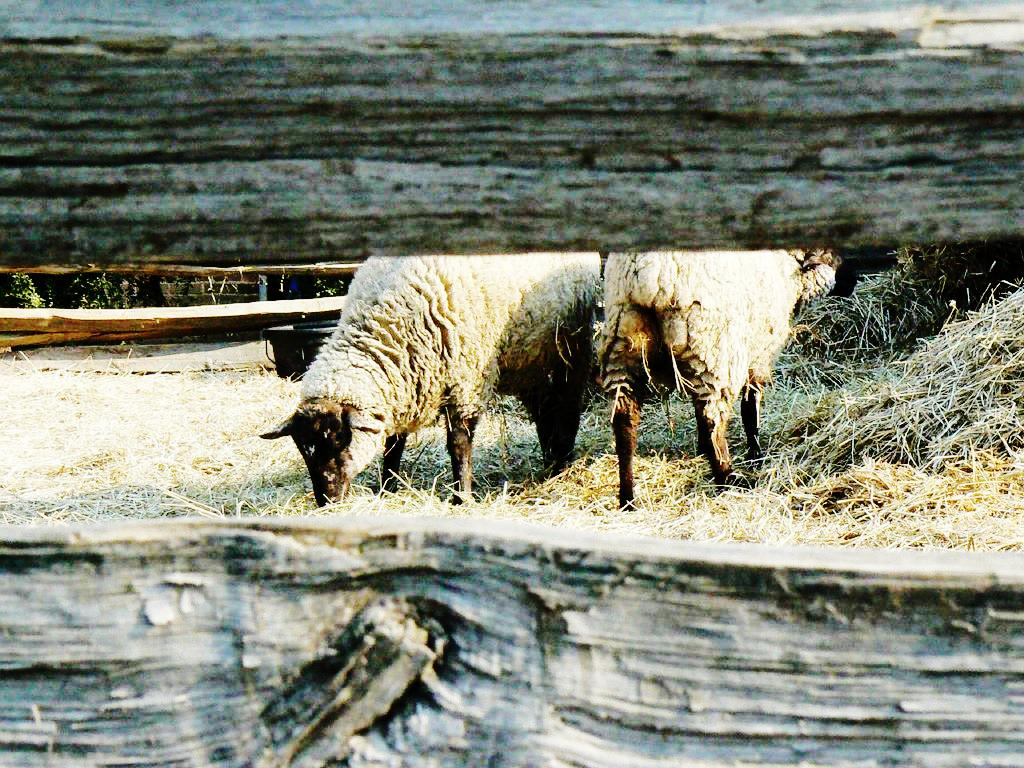Sheep: (251, 254, 603, 504), (595, 236, 855, 502)
